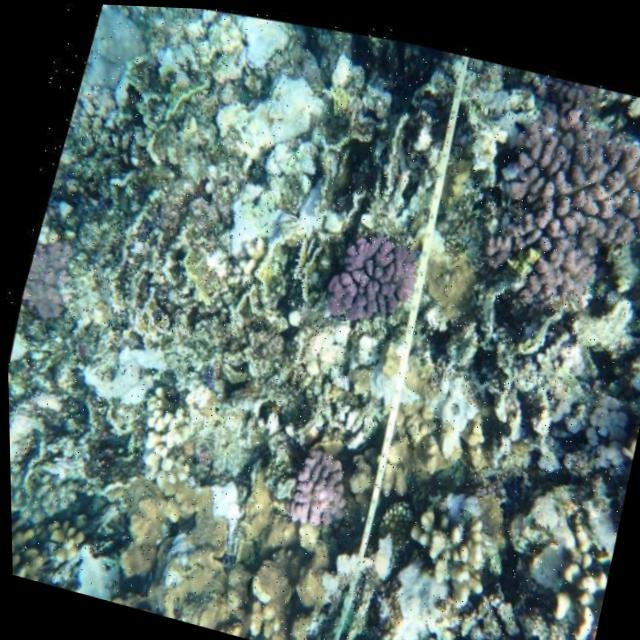Bleached Coral: (178, 39, 348, 193), (386, 474, 509, 618), (111, 364, 225, 507), (61, 307, 179, 431)
Healthy Coral: (466, 93, 640, 307), (307, 218, 433, 327), (274, 438, 354, 533)
